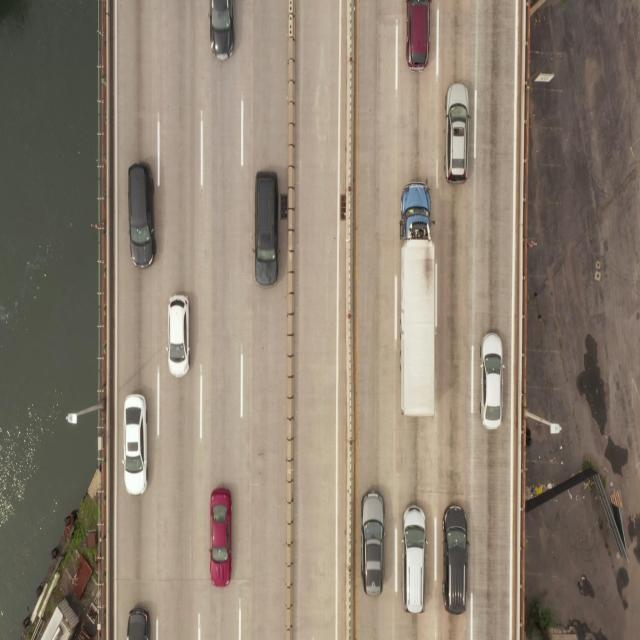Car: (251, 165, 283, 291), (128, 163, 156, 268), (442, 504, 468, 613), (401, 504, 427, 612), (444, 83, 470, 182), (361, 491, 385, 598), (123, 393, 148, 495), (478, 332, 503, 427), (210, 487, 232, 586), (167, 294, 191, 377), (406, 1, 432, 71), (209, 0, 235, 60), (126, 606, 152, 640)
Truck: (398, 180, 439, 418)
